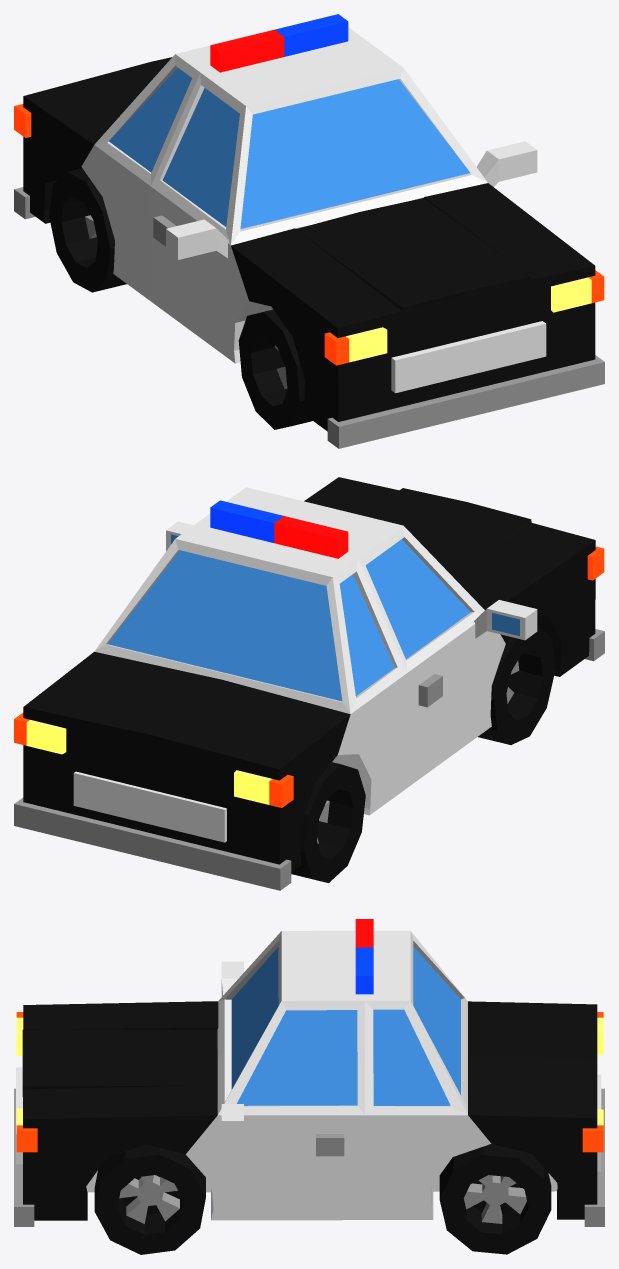
The picture shows the model from 3 angles, top to bottom: view 1: azimuth 30°, elevation 25°; view 2: azimuth 150°, elevation 25°; view 3: azimuth 270°, elevation 25°; orthographic projection. The views are drawn at different scales.
Visible parts, largest first — view 1: Cylinder.002; view 2: Cylinder.002; view 3: Cylinder.002.
Part boxes in pixels (bbox=[...]): Cylinder.002: bbox=[14, 14, 604, 448]; Cylinder.002: bbox=[14, 477, 604, 890]; Cylinder.002: bbox=[14, 919, 604, 1254].
Bounding box in the file's own units: 7.43 × 5.45 × 11.63.
1 material, 1 textured.
